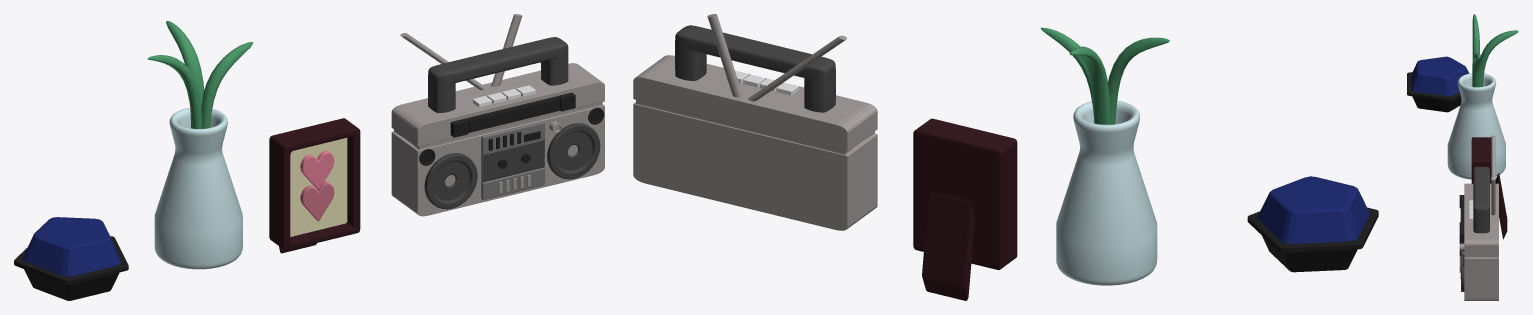
File: etc_1.fbx
3 views of the same model, side by side, from view 1: azimuth 30°, elevation 25°; view 2: azimuth 150°, elevation 25°; view 3: azimuth 270°, elevation 25° (orthographic). The views are drawn at different scales.
Visible parts, largest first — view 1: Cube.001, Circle, Cube, Cube.002, Circle.001, Cylinder.002, Plane, Cube.015, Cylinder.001, Cube.003, Plane.002, Plane.001 (+6 smaller); view 2: Cube.001, Circle, Cube, Cylinder.002, Cube.002, Cube.007, Cylinder.001, Circle.004, Plane.003, Plane.001, Cube.008, Plane.002; view 3: Circle, Cube.001, Cylinder.002, Cube.002, Cylinder.001, Cube, Plane.003, Circle.004, Cube.007, Plane.002, Plane.001, Cube.003 (+2 smaller).
Boxes of the visible parts, x1,y1,x2,y2 form: Cube.001: (391, 63, 604, 216); Circle: (154, 108, 242, 269); Cube: (269, 118, 360, 250); Cube.002: (428, 37, 568, 113); Circle.001: (424, 123, 600, 209); Cylinder.002: (22, 217, 120, 276); Plane: (481, 121, 544, 199); Cube.015: (290, 138, 347, 236); Cylinder.001: (14, 236, 128, 300); Cube.003: (450, 92, 575, 137); Plane.002: (201, 42, 253, 128); Plane.001: (147, 55, 202, 128); Cube.001: (633, 55, 877, 230); Circle: (1056, 100, 1157, 285); Cube: (913, 118, 1017, 269); Cylinder.002: (1257, 176, 1369, 243); Cube.002: (675, 25, 835, 112); Cube.007: (922, 191, 974, 300); Cylinder.001: (1247, 207, 1378, 272); Circle.004: (707, 14, 846, 101); Plane.003: (1069, 46, 1110, 124); Plane.001: (1108, 37, 1169, 124); Cube.008: (726, 70, 798, 95); Plane.002: (1040, 27, 1093, 115); Circle: (1447, 73, 1505, 179); Cube.001: (1464, 183, 1498, 300); Cylinder.002: (1411, 56, 1469, 96); Cube.002: (1473, 166, 1489, 233); Cylinder.001: (1407, 72, 1461, 112); Cube: (1471, 137, 1491, 183); Plane.003: (1480, 30, 1518, 86); Circle.004: (1491, 135, 1495, 215); Cube.007: (1495, 173, 1507, 239); Plane.002: (1472, 53, 1480, 87); Plane.001: (1472, 14, 1479, 59); Cube.003: (1459, 195, 1464, 242).
Size of the model in its own units: 1567 by 624 by 383.
